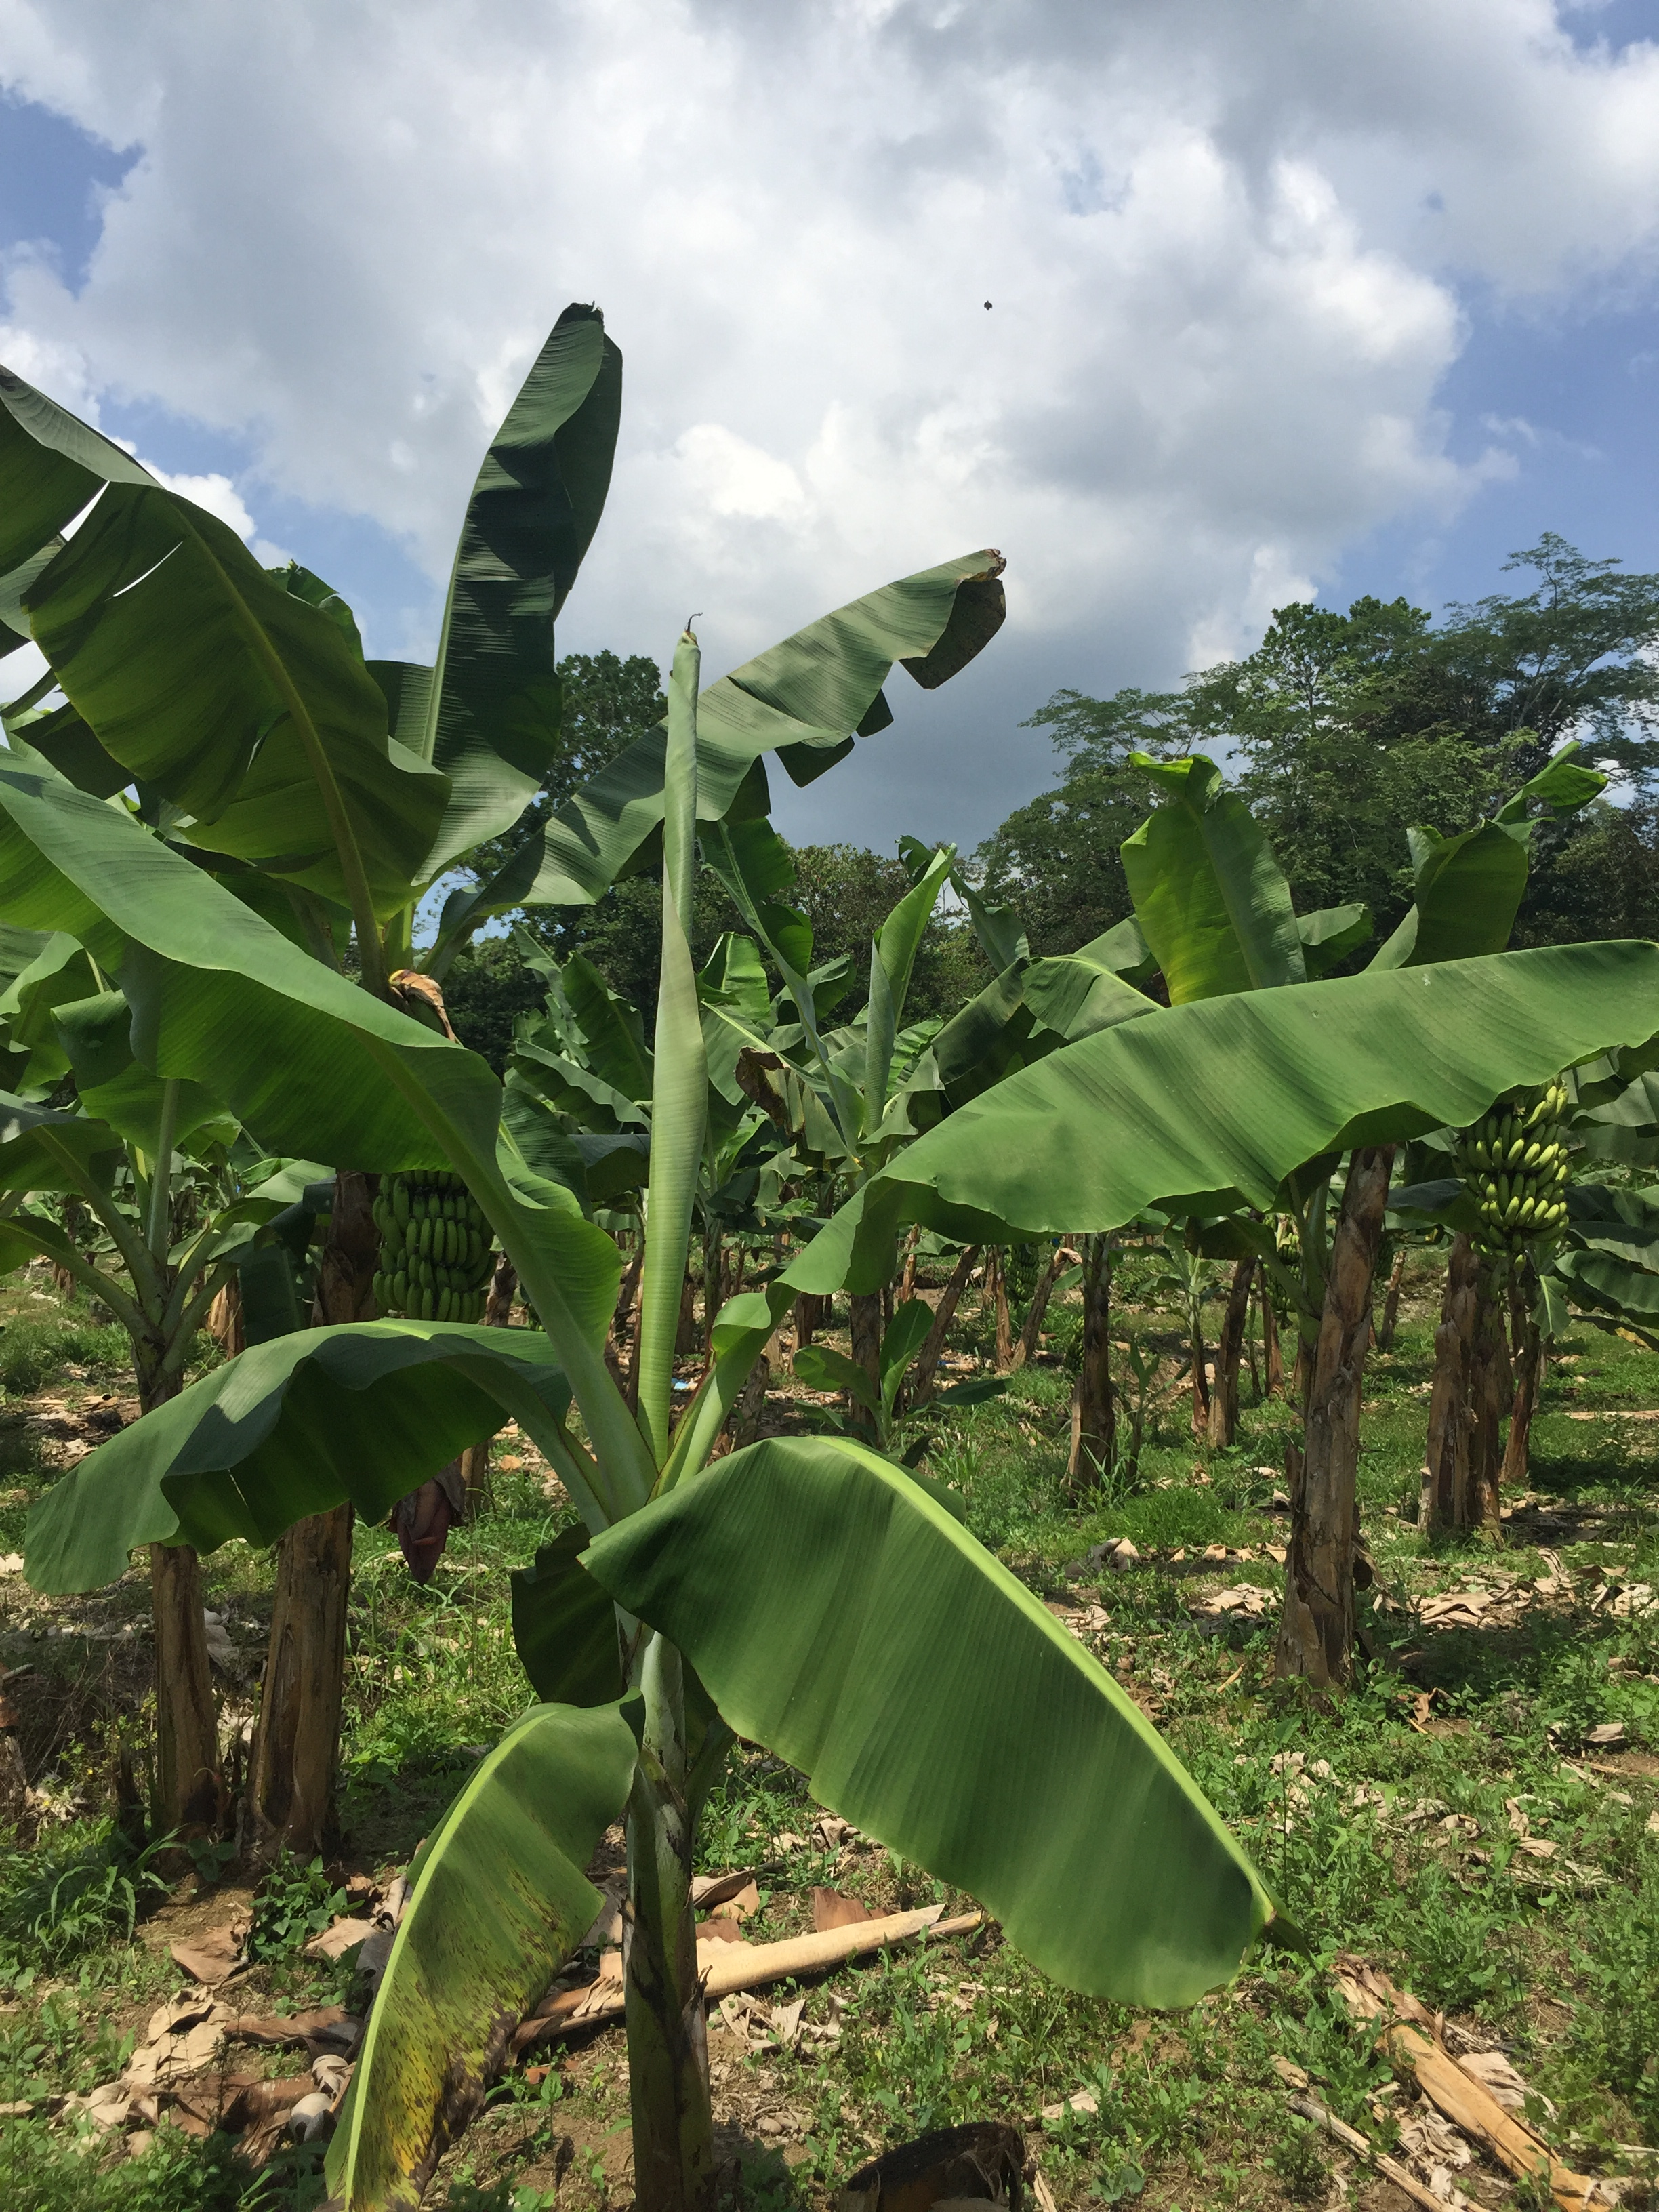candleleafs: (633, 615, 723, 1467), (863, 850, 955, 1150)
